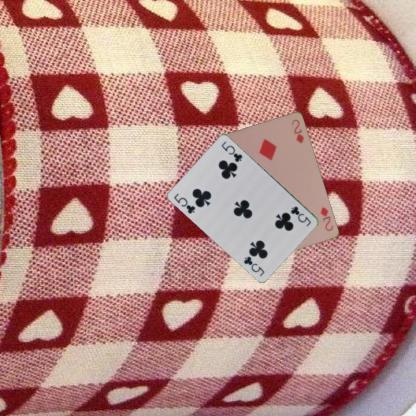2d: (317, 204, 335, 233)
5c: (288, 203, 313, 228), (172, 190, 196, 216)
